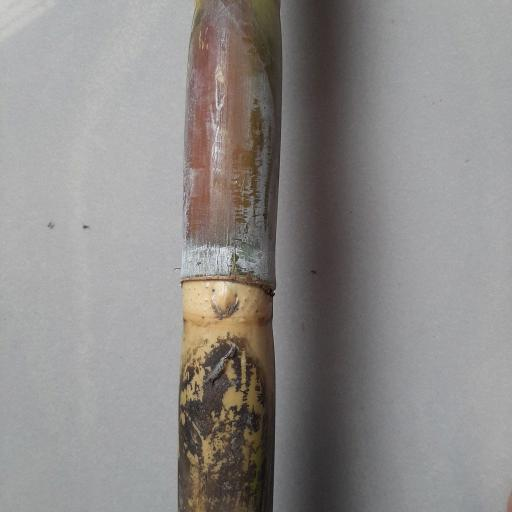Bud: (211, 283, 237, 321)
